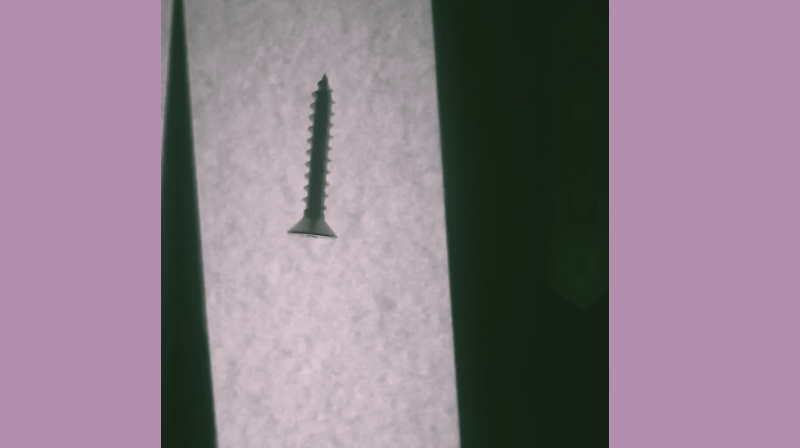S001: (287, 69, 343, 241)
